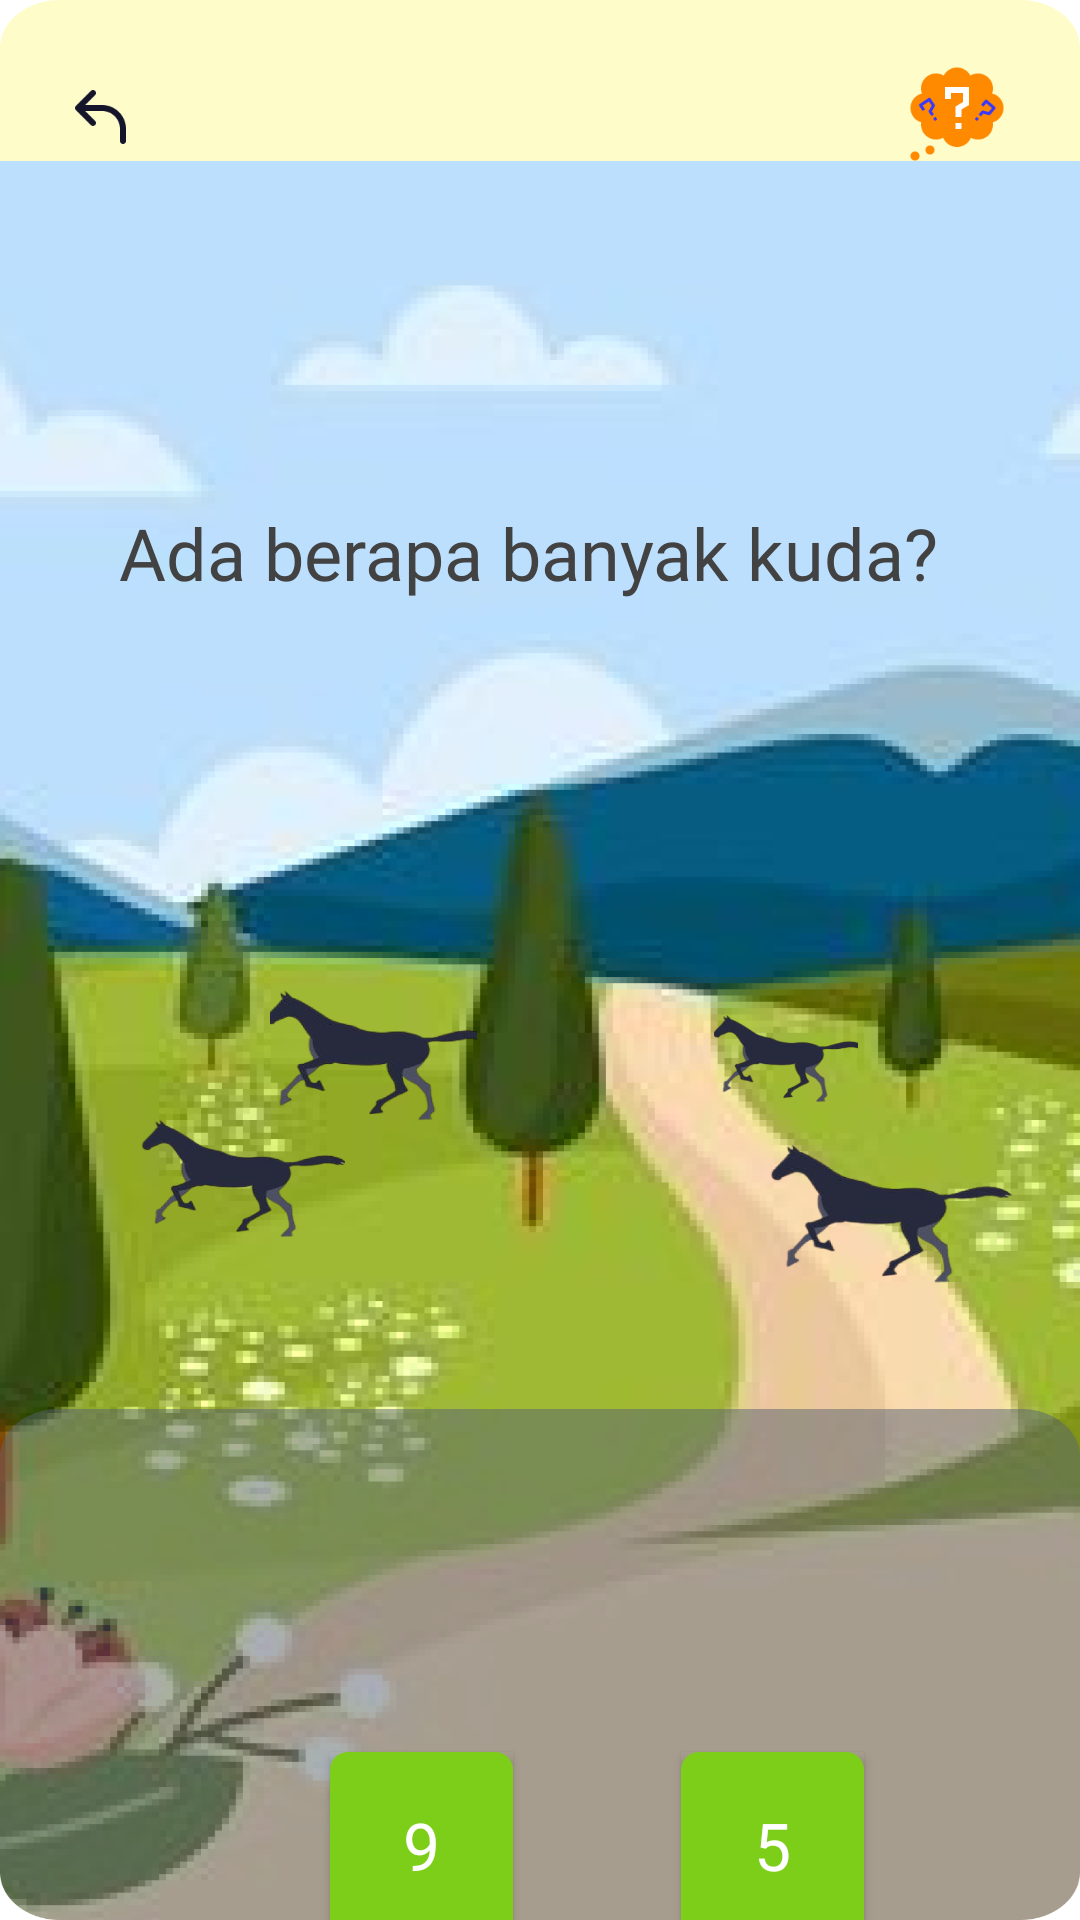

Icon click points for this 1080×1920 phone screenshot, format (x=x, y=y):
back: (x=100, y=117)
help: (x=957, y=111)
